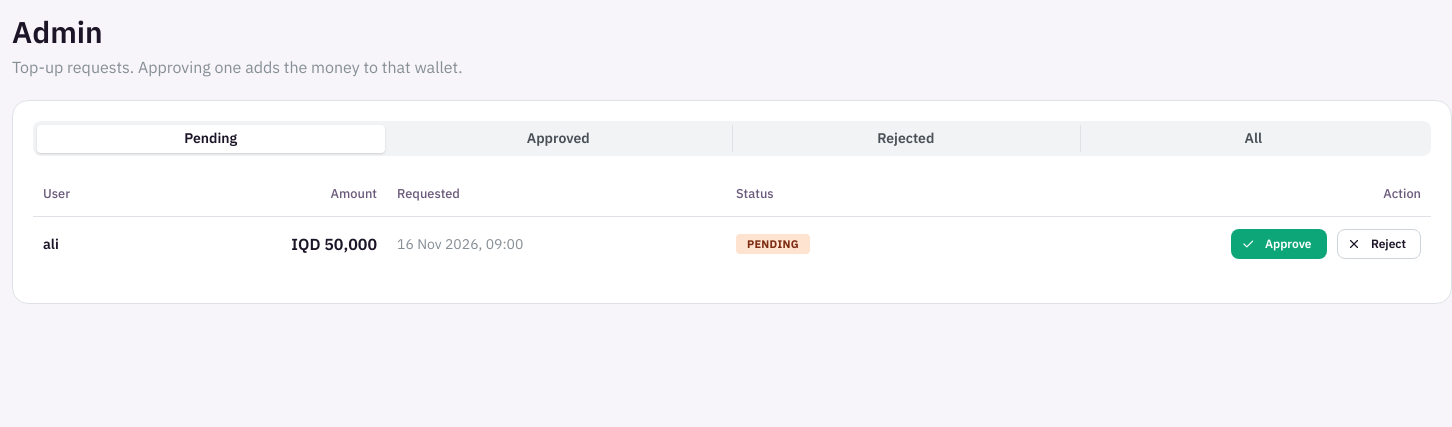
Test: AdminPage › shows why when another admin got there first, and reloads
Click the button with aria-label "Approve ali's top-up" at [1278, 244], box [1230,229,1326,259]
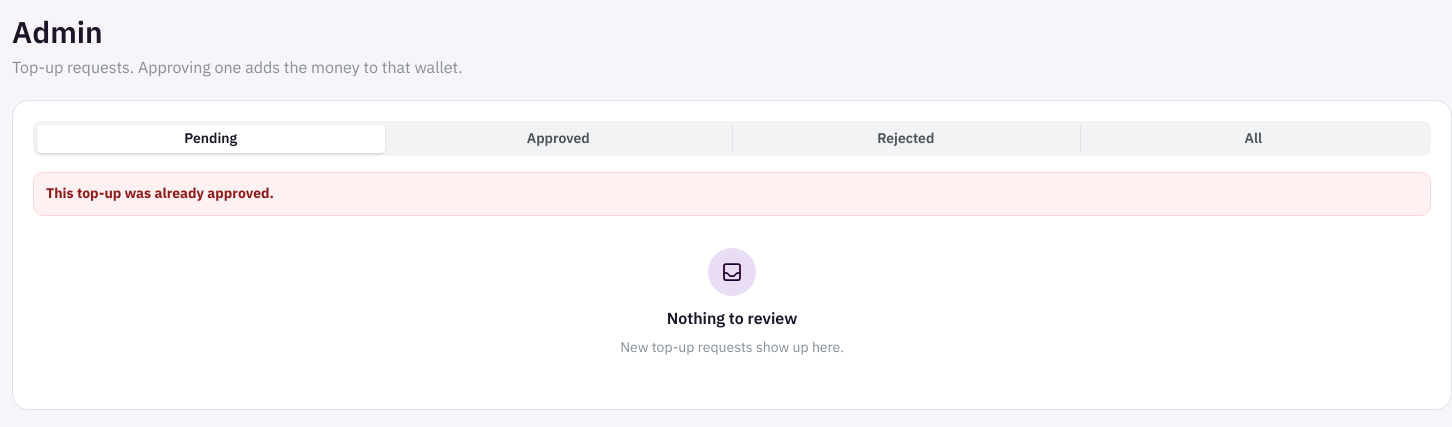
Check: the message shows "already approved", box [46,184,274,202]
Check: the text "Nothing to review" is shown, box [667,306,797,331]
